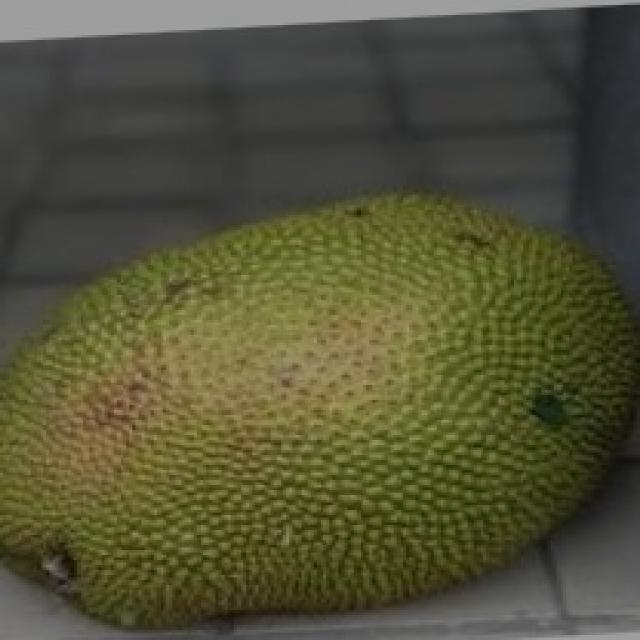Fruit: (258, 162, 640, 630), (0, 208, 394, 638)
